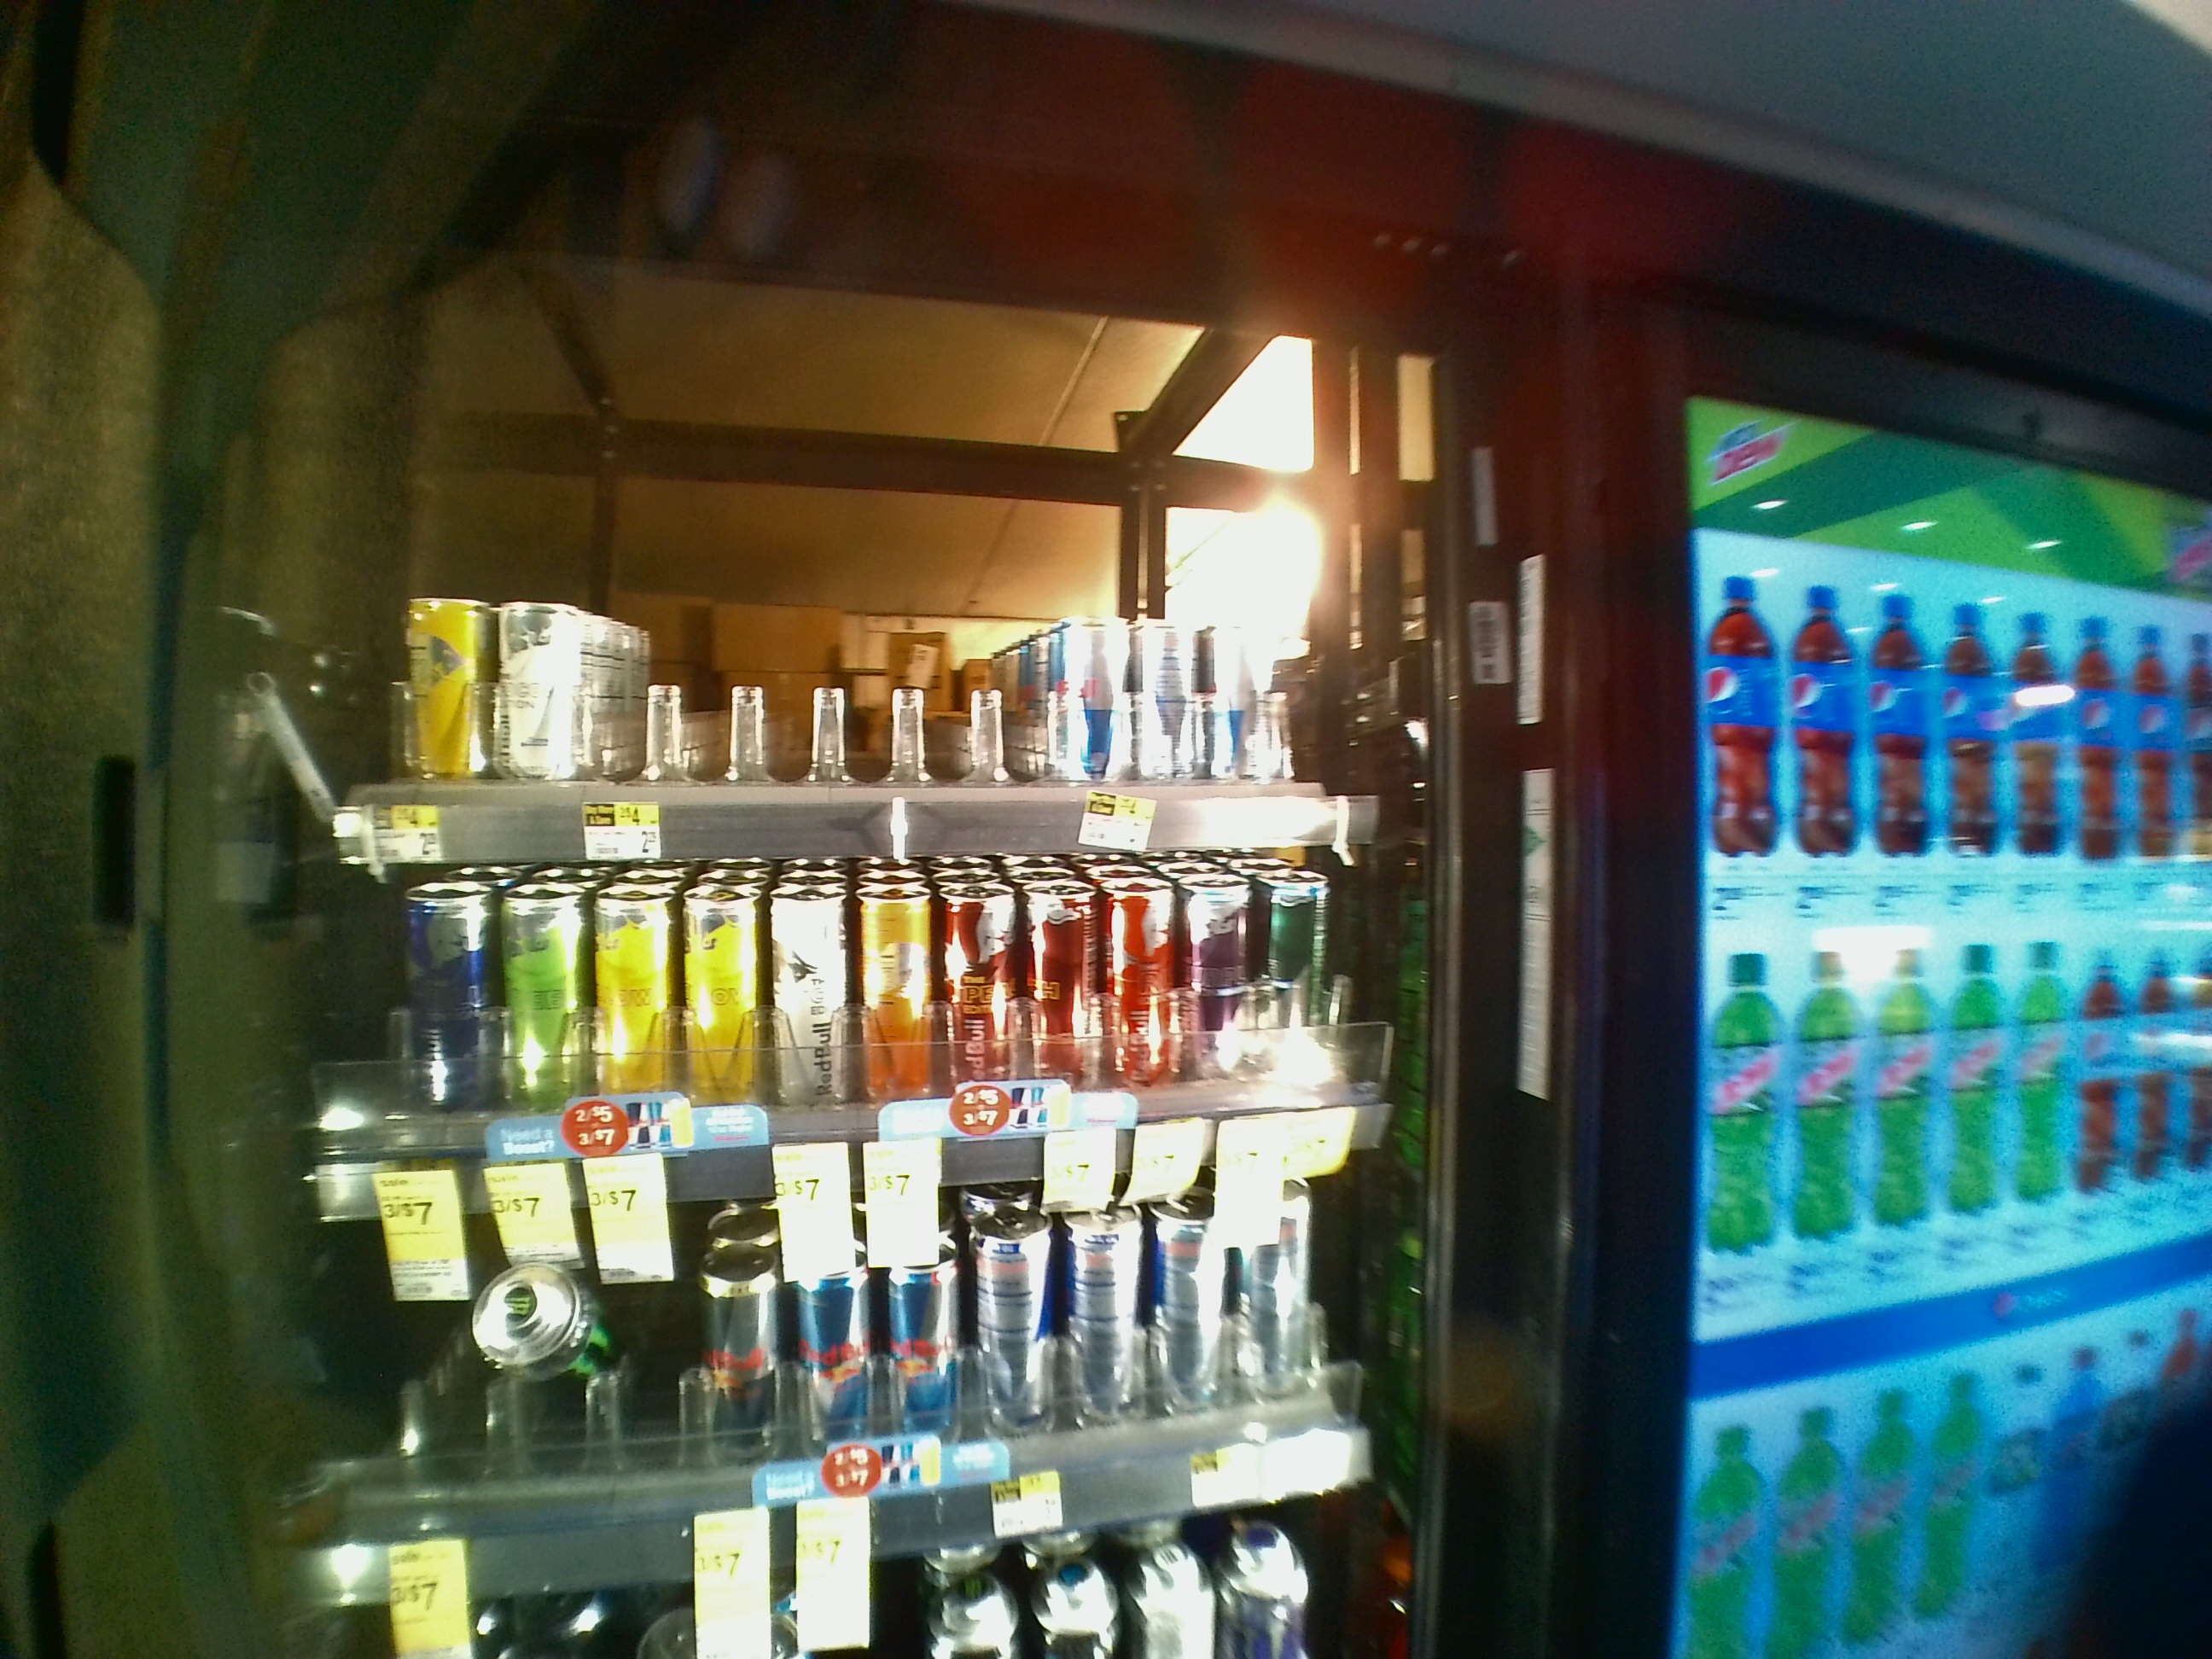shelf: (317, 849, 1440, 1197)
